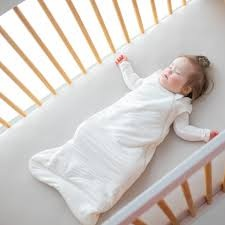baby: (115, 54, 217, 141)
crib: (0, 0, 127, 224)
